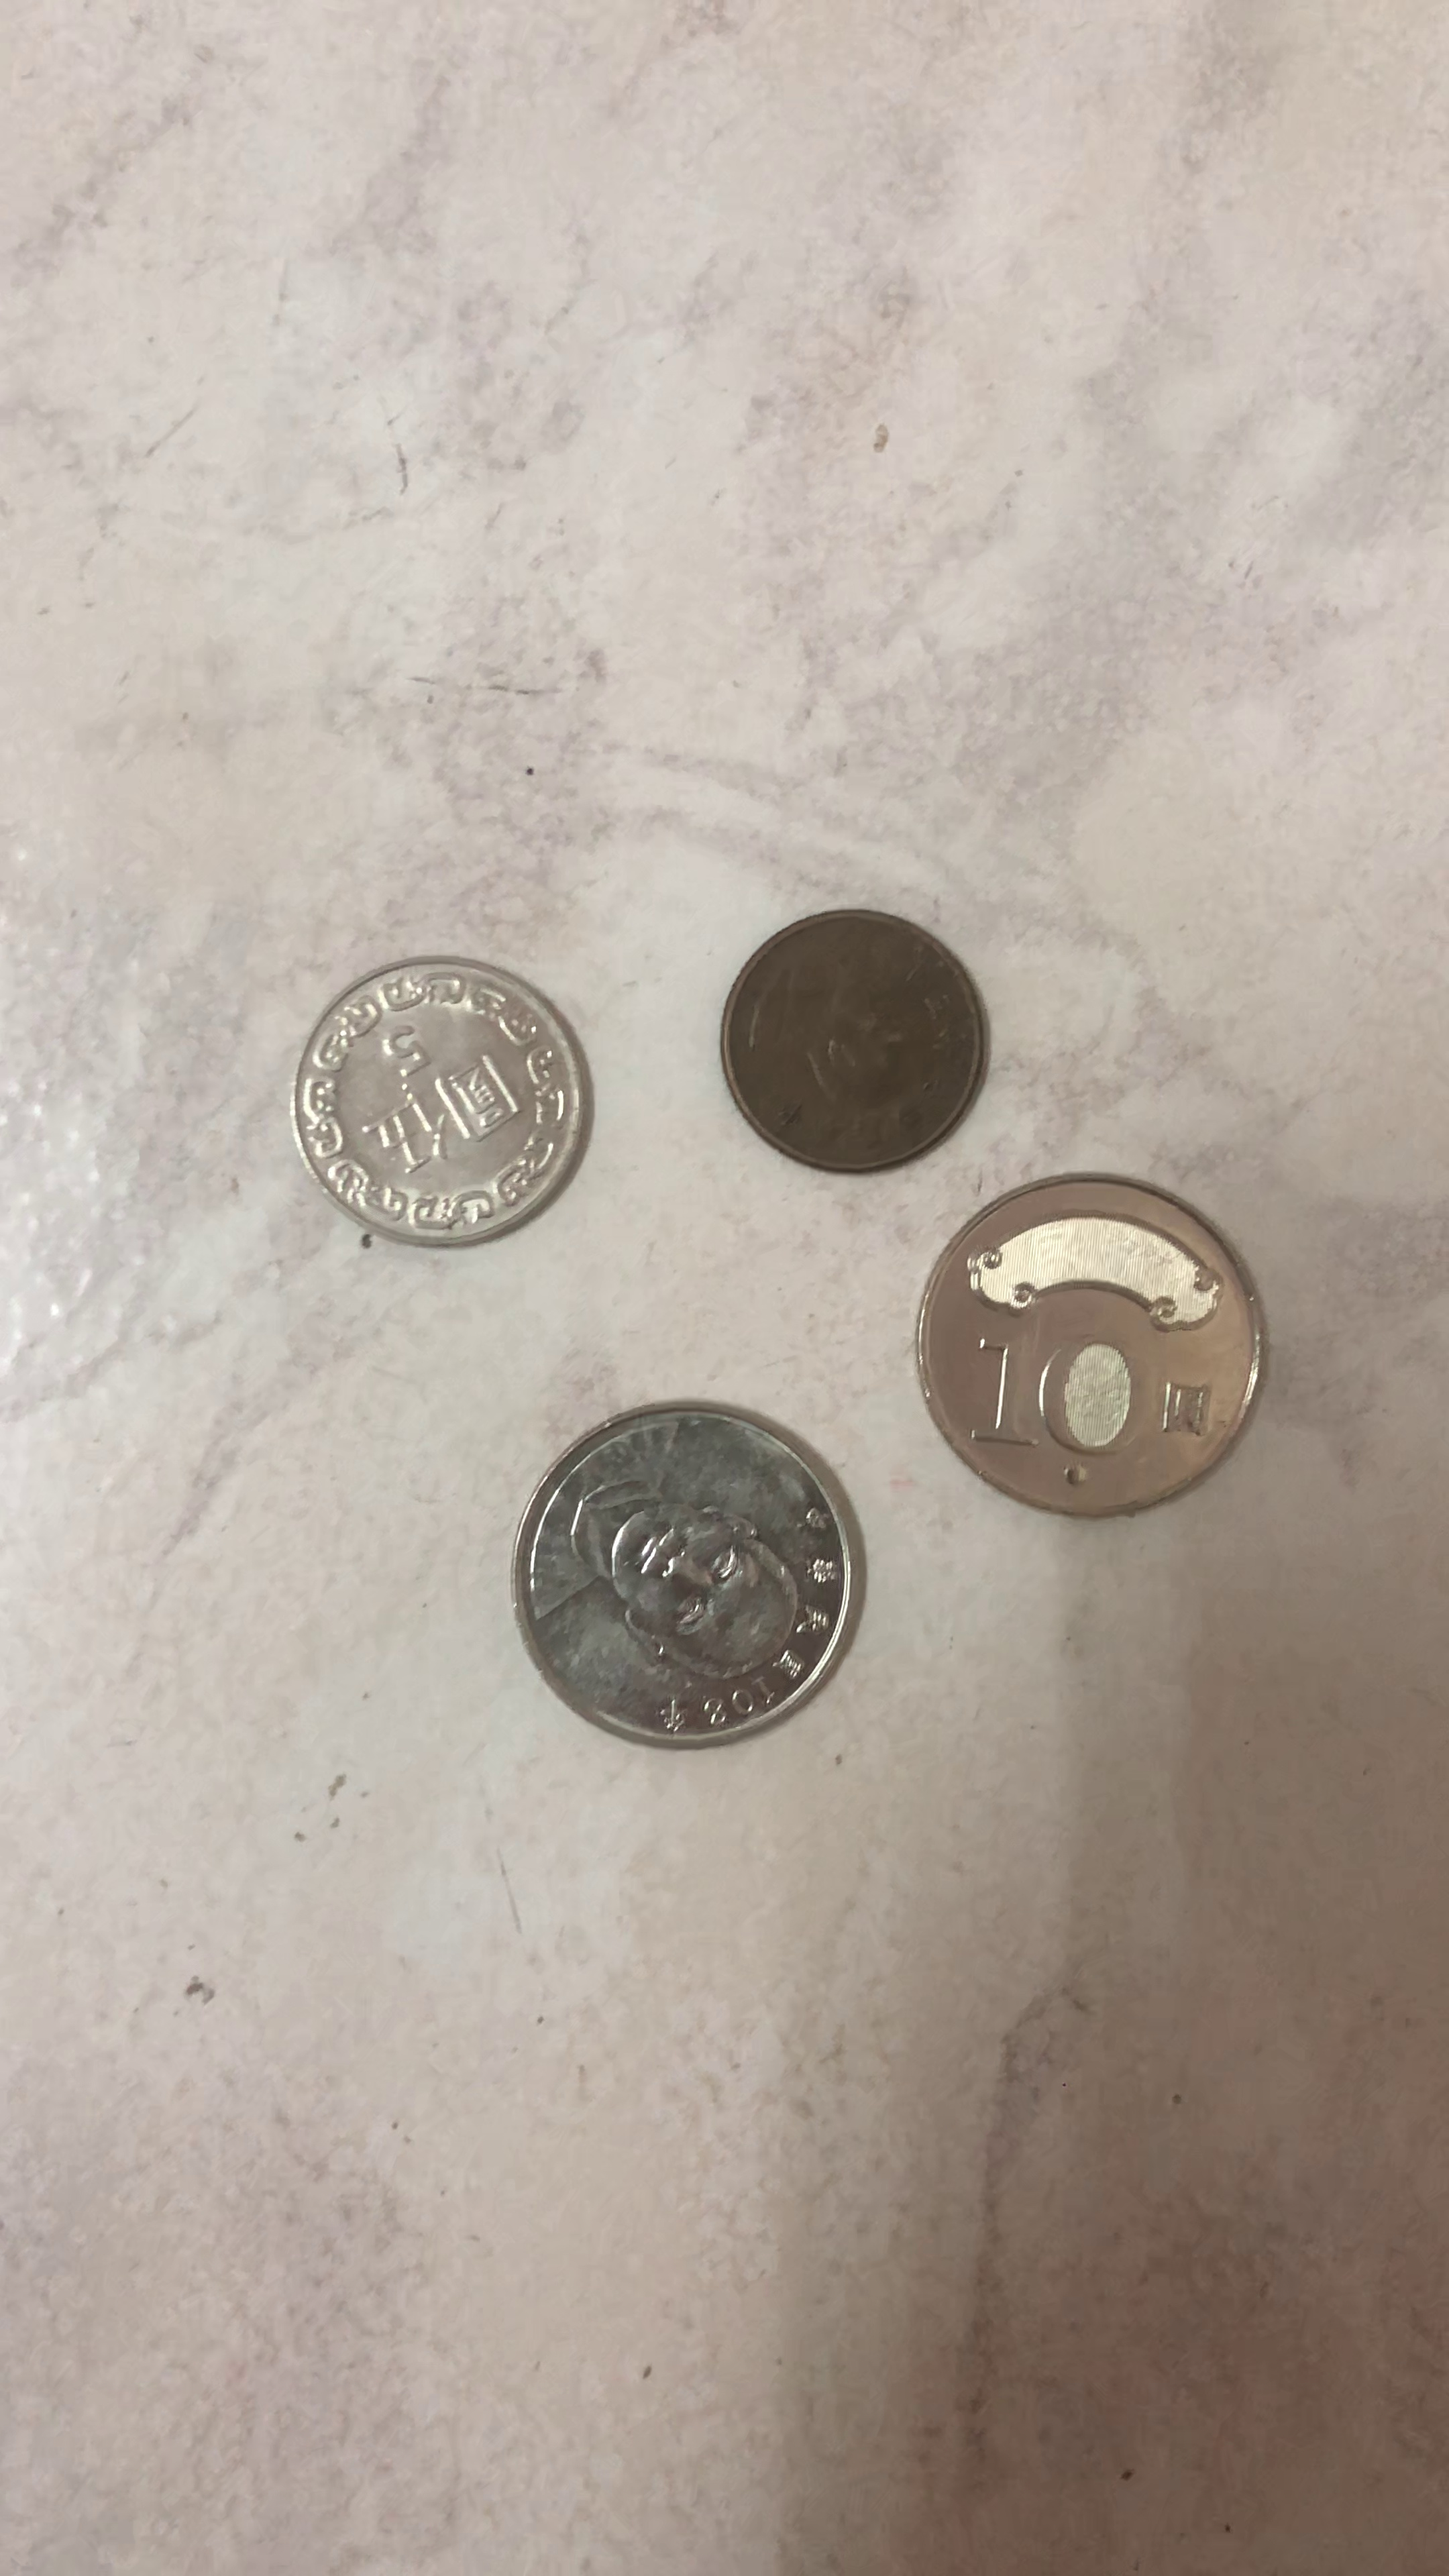1 dallar: (695, 893, 1028, 1191)
10 dallar: (472, 1380, 913, 1785), (902, 1166, 1290, 1529)
5 dallar: (278, 945, 609, 1258)
